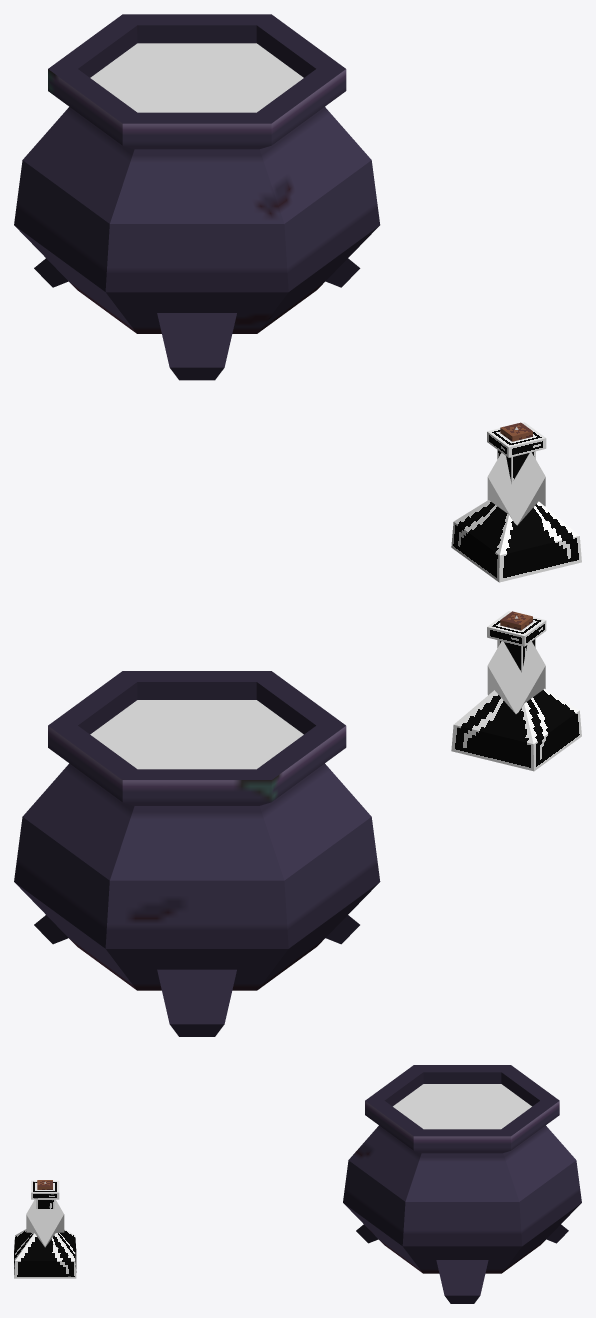
File: cauldron.fbx
The picture shows the model from 3 angles, top to bottom: view 1: azimuth 30°, elevation 25°; view 2: azimuth 150°, elevation 25°; view 3: azimuth 270°, elevation 25°; orthographic projection. The views are drawn at different scales.
Visible parts, largest first — view 1: Cauldron, Soup, Flask, Crystal; view 2: Cauldron, Soup, Flask, Crystal; view 3: Cauldron, Soup, Flask, Crystal.
Part boxes in pixels (x1,y1,x2,y2): Cauldron: [14, 14, 380, 380]; Soup: [90, 43, 303, 112]; Flask: [451, 422, 581, 582]; Crystal: [487, 427, 545, 525]; Cauldron: [14, 671, 380, 1036]; Soup: [90, 700, 303, 769]; Flask: [451, 611, 581, 771]; Crystal: [487, 615, 545, 713]; Cauldron: [343, 1065, 581, 1303]; Soup: [393, 1084, 531, 1129]; Flask: [14, 1180, 76, 1278]; Crystal: [26, 1182, 64, 1247].
Size of the model in its own units: 156 by 131 by 408.
